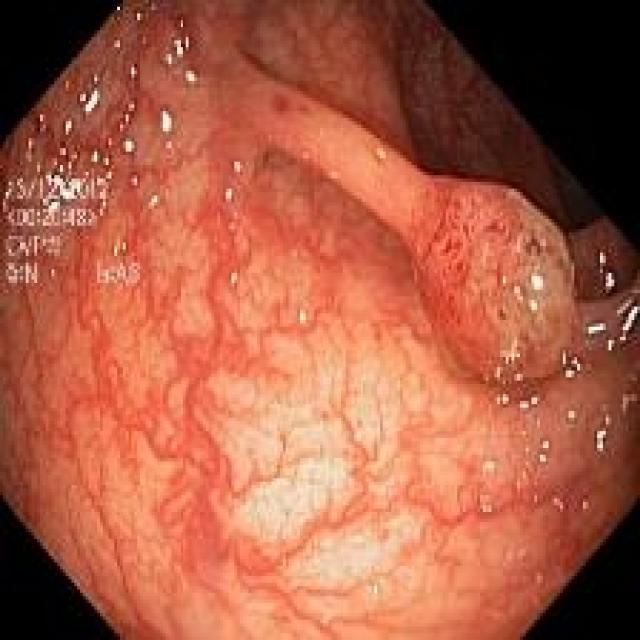Polyps: (410, 178, 576, 384)
